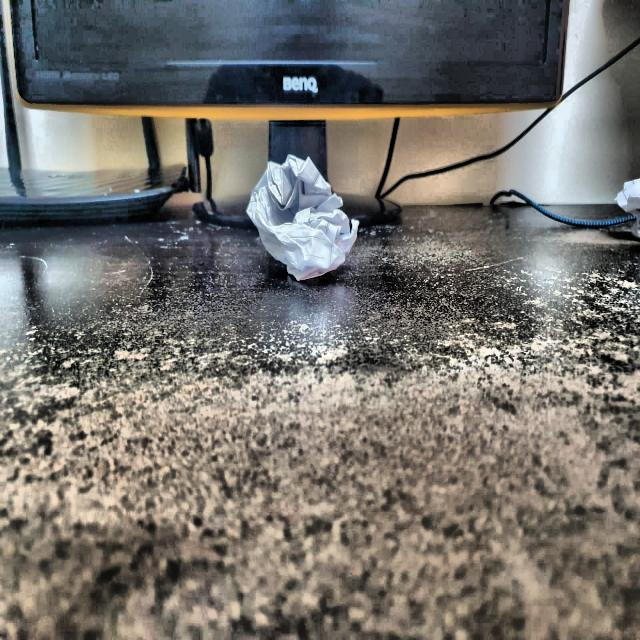Paper: (244, 153, 364, 286)
